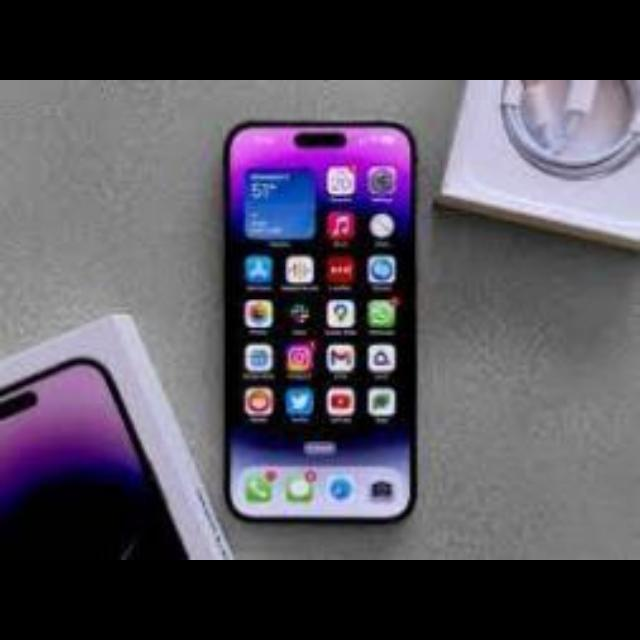Phone: (222, 122, 420, 524), (2, 355, 190, 559)
